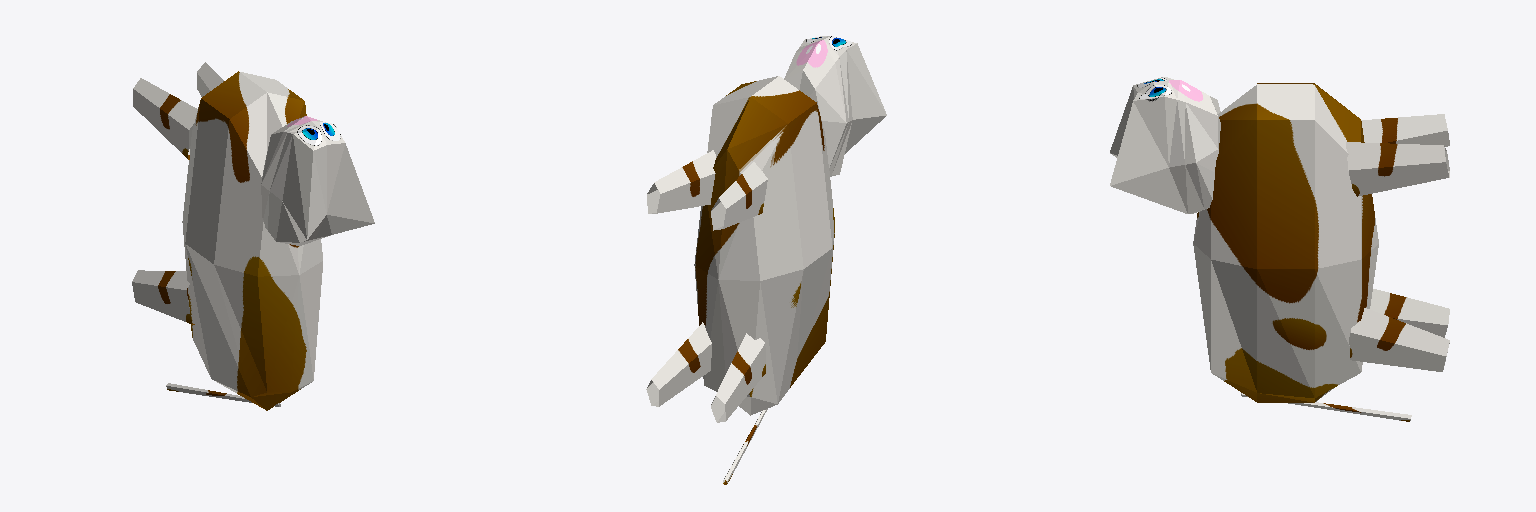
The picture shows the model from 3 angles: view 1: azimuth 30°, elevation 25°; view 2: azimuth 150°, elevation 25°; view 3: azimuth 270°, elevation 25°; orthographic projection.
Visible parts, largest first — view 1: Sphere, Sphere.001, Tube, Tube.003_Tube, Tube.001_Tube; view 2: Sphere, Sphere.001, Tube.001_Tube, Tube.002_Tube, Tube.003_Tube, Tube; view 3: Sphere, Sphere.001, Tube.001_Tube, Tube.002_Tube, Tube, Tube.003_Tube, Tube.004_Tube.
Part boxes in pixels (bbox=[...]): Sphere: bbox=[182, 71, 322, 410]; Sphere.001: bbox=[261, 116, 374, 245]; Tube: bbox=[133, 78, 197, 159]; Tube.003_Tube: bbox=[132, 270, 194, 324]; Tube.001_Tube: bbox=[197, 62, 223, 96]; Sphere: bbox=[694, 76, 834, 415]; Sphere.001: bbox=[784, 36, 886, 176]; Tube.001_Tube: bbox=[647, 150, 715, 213]; Tube.002_Tube: bbox=[646, 322, 711, 406]; Tube.003_Tube: bbox=[711, 333, 765, 422]; Tube: bbox=[711, 162, 767, 230]; Sphere: bbox=[1193, 83, 1378, 402]; Sphere.001: bbox=[1110, 77, 1220, 213]; Tube.001_Tube: bbox=[1346, 142, 1449, 196]; Tube.002_Tube: bbox=[1349, 308, 1449, 371]; Tube: bbox=[1361, 114, 1449, 146]; Tube.003_Tube: bbox=[1370, 289, 1449, 337]; Tube.004_Tube: bbox=[1241, 393, 1411, 421].
Size of the model in its own units: 0.1182 by 0.3745 by 0.3277.
4 materials, 2 textured.